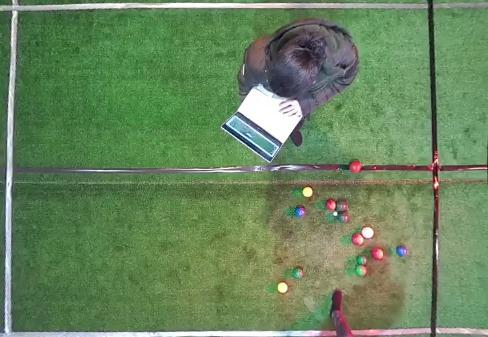blue: (396, 246, 407, 257), (295, 207, 306, 217)
green: (355, 265, 367, 277), (338, 212, 349, 223), (356, 255, 367, 265), (337, 200, 347, 211), (293, 268, 303, 278)
red: (352, 233, 364, 246), (349, 161, 362, 173), (372, 248, 383, 260), (362, 227, 374, 238), (326, 199, 336, 210)
vline: (428, 0, 487, 336), (0, 0, 19, 336)
white: (333, 211, 337, 216)
yellow: (278, 282, 288, 293), (302, 187, 313, 197)
